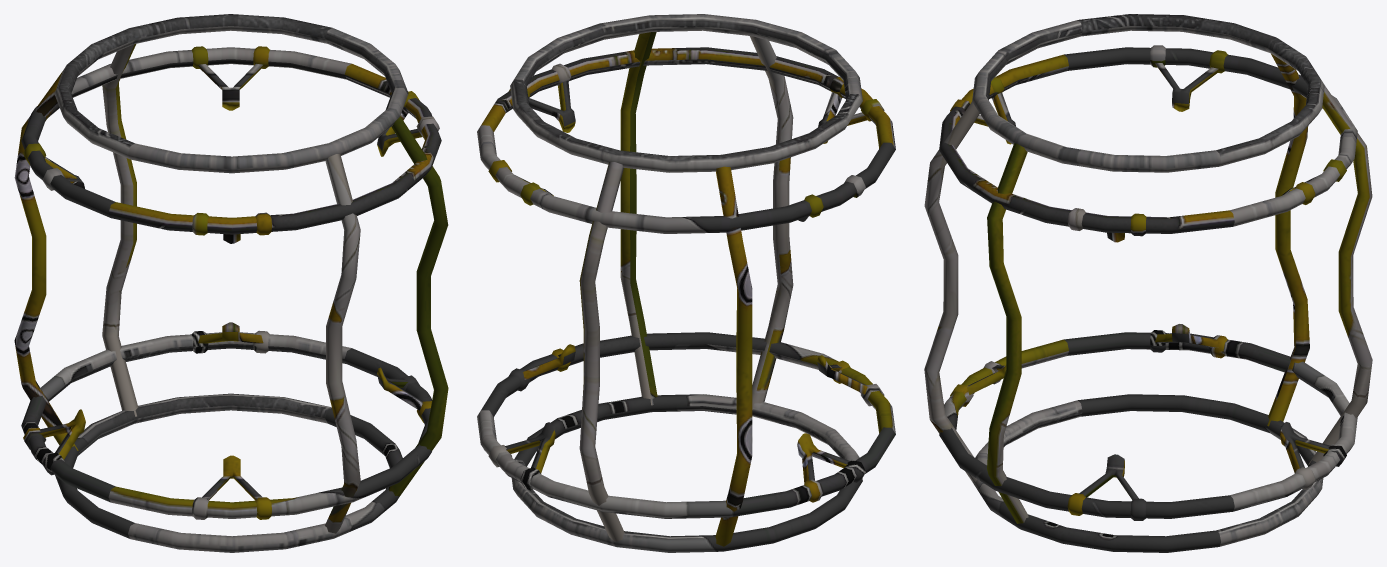
The model's file is portector_harness_cyllinder.obj.
The picture shows the model from 3 angles, left to right: view 1: azimuth 30°, elevation 25°; view 2: azimuth 150°, elevation 25°; view 3: azimuth 270°, elevation 25°; orthographic projection.
Visible parts, largest first — view 1: polySurface180_0; view 2: polySurface180_0; view 3: polySurface180_0.
Part boxes in pixels (x1=…): polySurface180_0: x1=14, y1=14, x2=448, y2=552; polySurface180_0: x1=477, y1=14, x2=895, y2=552; polySurface180_0: x1=924, y1=14, x2=1372, y2=552.
Size of the model in its own units: 68.15 by 70.19 by 72.48.
